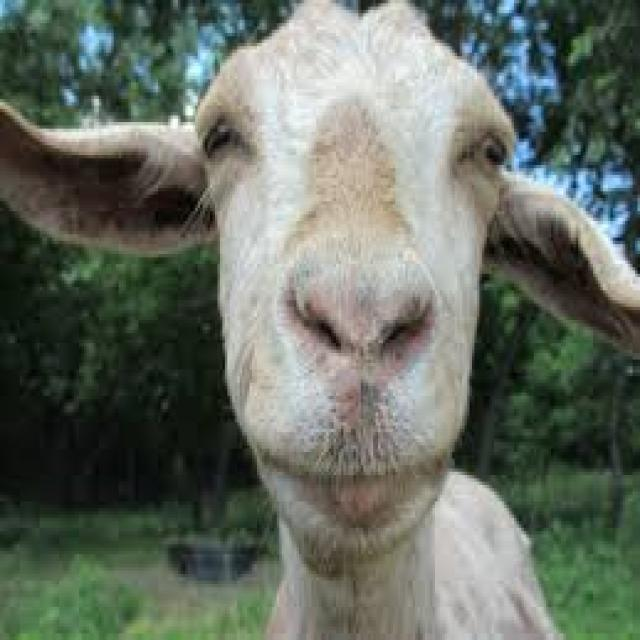Goat: (0, 0, 621, 639)
